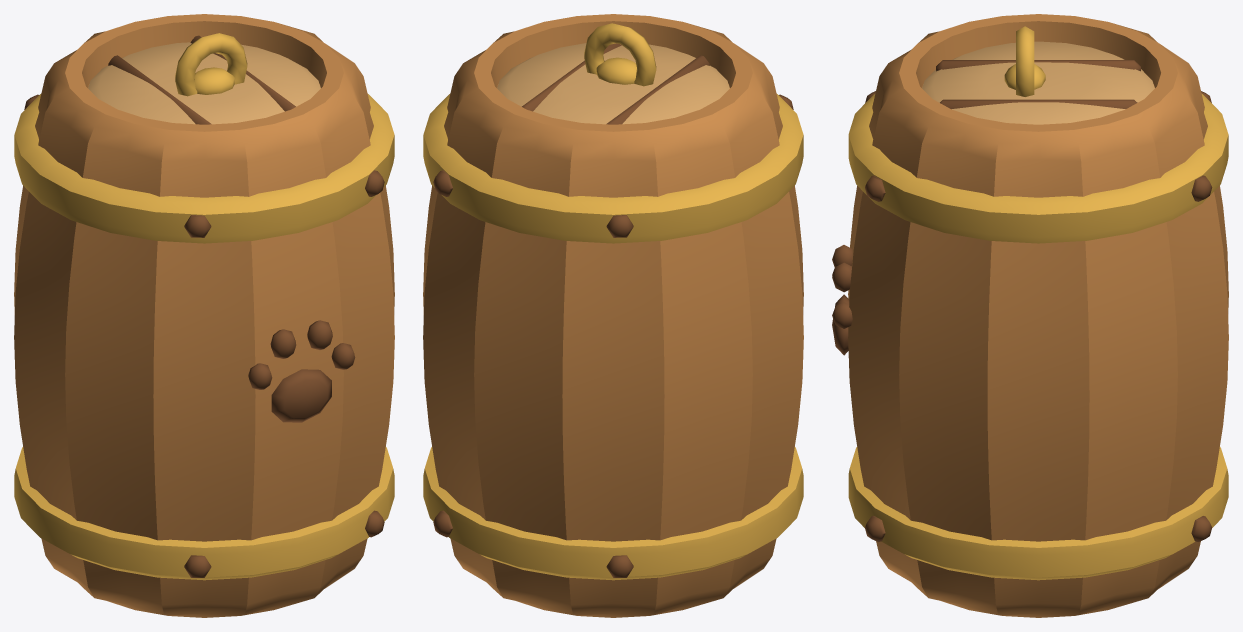
Rendered from ShopBarrel.fbx.
The picture shows the model from 3 angles, left to right: view 1: azimuth 30°, elevation 25°; view 2: azimuth 150°, elevation 25°; view 3: azimuth 270°, elevation 25°; orthographic projection.
Parts seen in each view (by area): view 1: ShopBarrel; view 2: ShopBarrel; view 3: ShopBarrel.
Boxes of the visible parts, x1,y1,x2,y2 form: ShopBarrel: [14, 14, 394, 617]; ShopBarrel: [423, 14, 803, 617]; ShopBarrel: [832, 14, 1228, 617].
Size of the model in its own units: 0.568 by 0.8704 by 0.5919.
